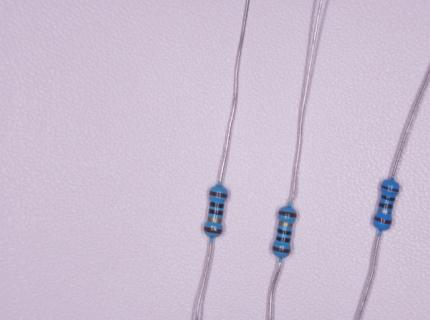Black band: (381, 194, 395, 202), (208, 209, 223, 216), (379, 203, 393, 210), (278, 228, 292, 235), (209, 202, 224, 208), (276, 236, 290, 242)
Brown band: (374, 216, 392, 225), (273, 246, 291, 254), (381, 184, 399, 192), (209, 191, 227, 198), (204, 227, 222, 234), (279, 210, 297, 217)
Gold band: (378, 208, 392, 214), (208, 217, 222, 223), (279, 222, 292, 227)
